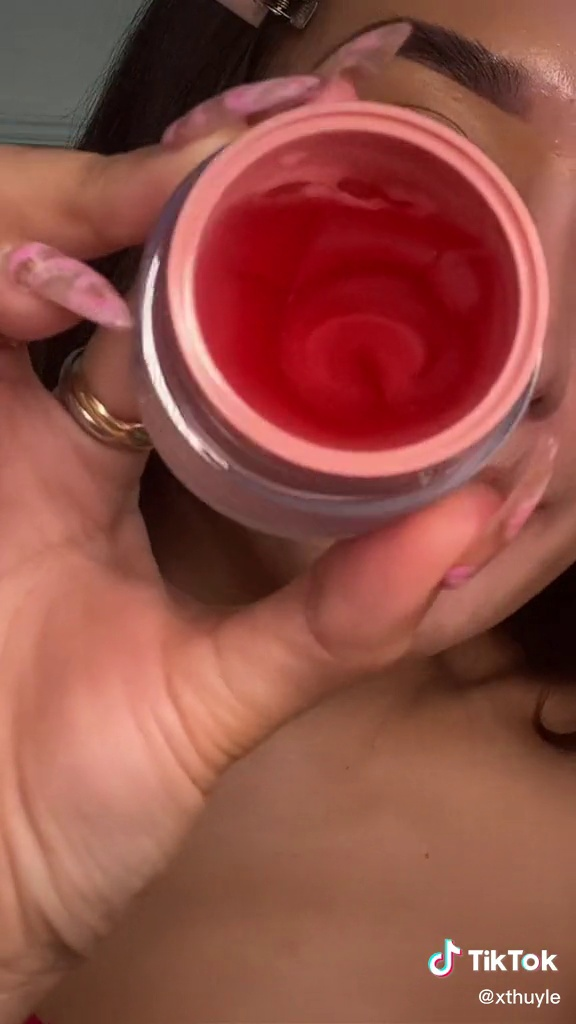train' :'yolo_data/train/images',: (131, 96, 559, 551)
